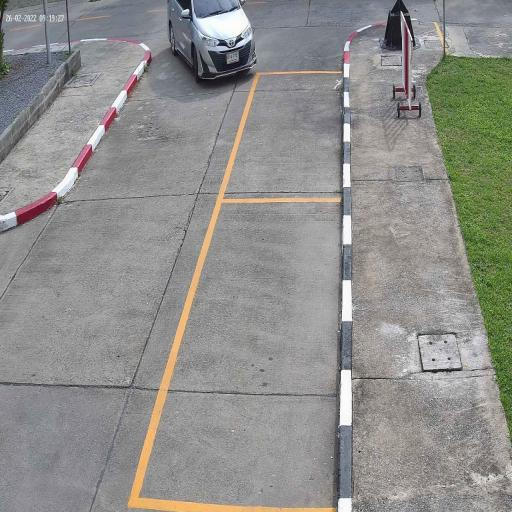car: (166, 0, 258, 82)
